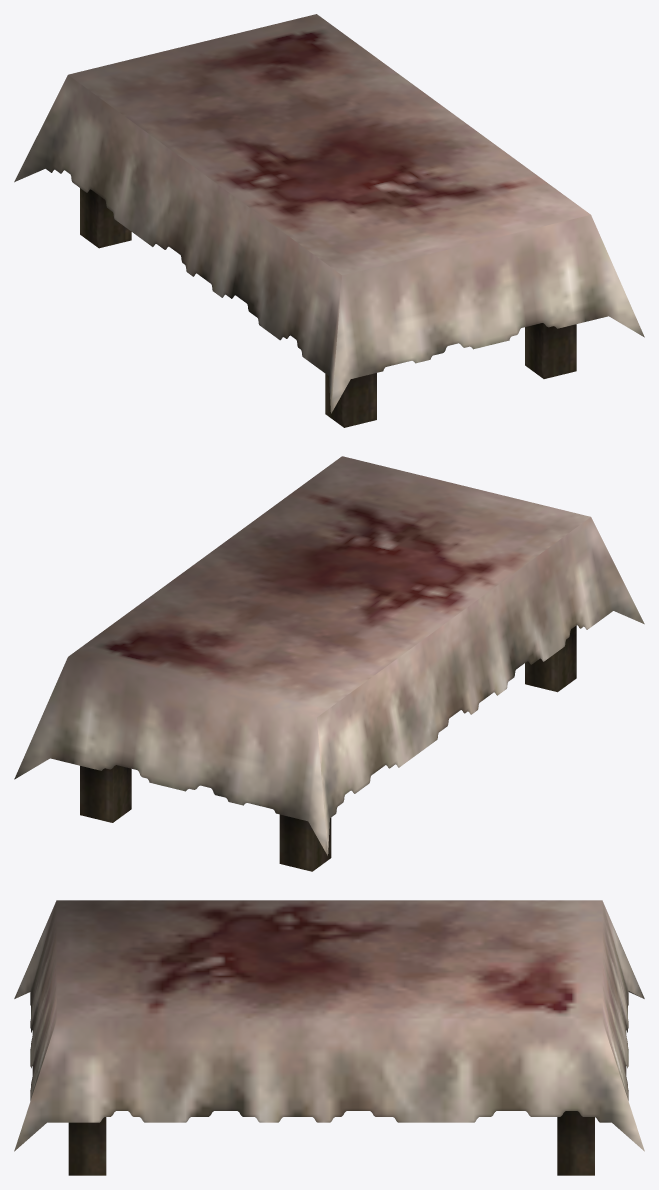
File: stst126.dae
3 views of the same model, one above another, from view 1: azimuth 30°, elevation 25°; view 2: azimuth 150°, elevation 25°; view 3: azimuth 270°, elevation 25° (orthographic).
Visible parts, largest first — view 1: table; view 2: table; view 3: table.
Boxes of the visible parts, x1=… form: table: x1=14, y1=14, x2=644, y2=427; table: x1=14, y1=456, x2=644, y2=871; table: x1=14, y1=900, x2=644, y2=1175.
Size of the model in its own units: 1.19 by 2.08 by 0.5758.
1 material, 1 textured.
